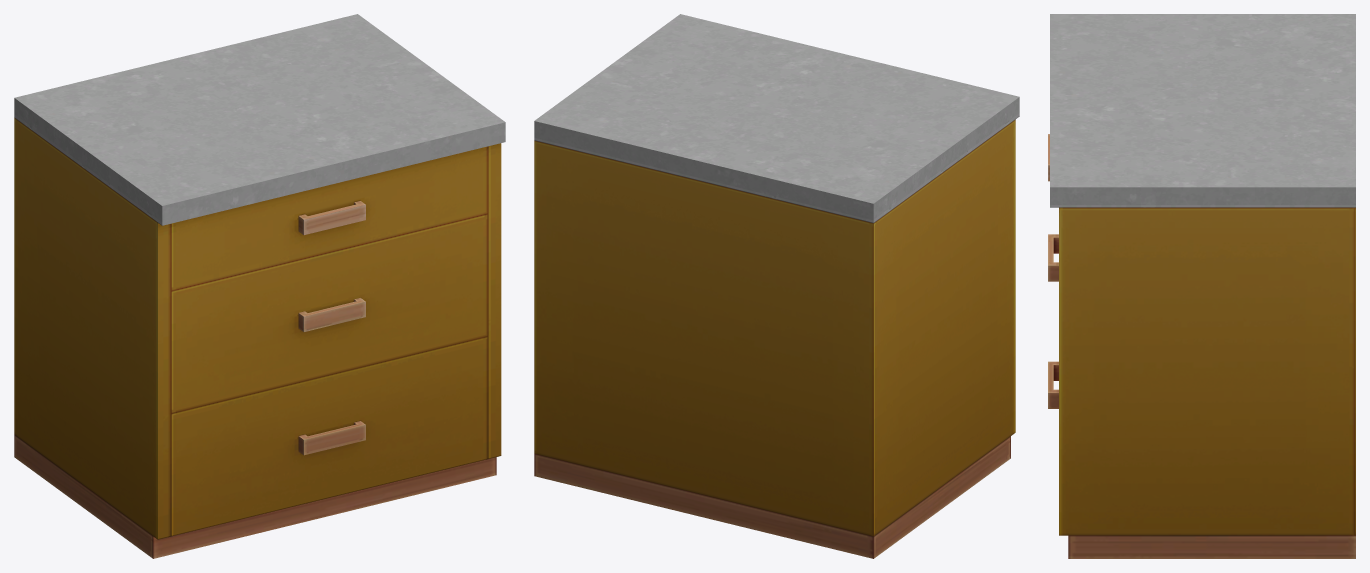
Rendered from muebleGrande.fbx.
3 views of the same model, side by side, from view 1: azimuth 30°, elevation 25°; view 2: azimuth 150°, elevation 25°; view 3: azimuth 270°, elevation 25° (orthographic). The views are drawn at different scales.
Visible parts, largest first — view 1: muebleGrande; view 2: muebleGrande; view 3: muebleGrande.
Part boxes in pixels (<box>): muebleGrande: <box>14,14,505,558</box>; muebleGrande: <box>534,14,1019,558</box>; muebleGrande: <box>1048,14,1355,558</box>.
Bounding box in the file's own units: 100 × 100 × 75.03.
Materials: 2 (2 with a texture image).
